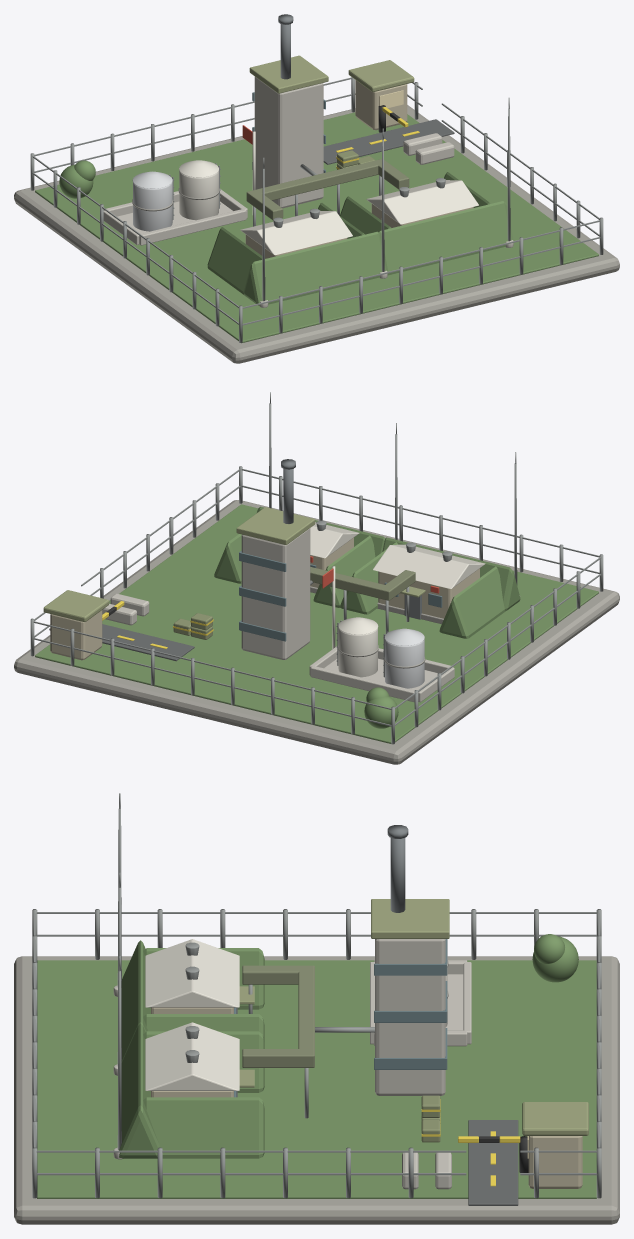
Rendered from tnt_5.glb.
The picture shows the model from 3 angles, top to bottom: view 1: azimuth 30°, elevation 25°; view 2: azimuth 150°, elevation 25°; view 3: azimuth 270°, elevation 25°; orthographic projection. The views are drawn at different scales.
Visible parts, largest first — view 1: Cube.001, Cube, Cube.052, prism, prism.004, prism.007, prism.003, Cube.002, prism.001, Cube.029, Cube.059, Cylinder.013 (+20 smaller); view 2: Cube.001, Cube, Cube.052, prism.001, prism.003, Cube.006, Cube.059, Cylinder.013, Cylinder.015, Cube.002, prism.005, Cube.014 (+19 smaller); view 3: Cube.001, Cube, Cube.052, prism.006, prism.003, prism.007, Cube.002, prism.004, Cube.059, Cube.006, Cube.007, prism (+20 smaller).
Boxes of the visible parts, x1,y1,x2,y2 form: Cube.001: [35, 112, 598, 343]; Cube: [14, 105, 619, 363]; Cube.052: [254, 76, 323, 208]; prism: [243, 231, 386, 305]; prism.004: [379, 201, 513, 275]; prism.007: [366, 180, 478, 224]; prism.003: [240, 210, 352, 255]; Cube.002: [323, 119, 454, 164]; prism.001: [207, 227, 265, 294]; Cube.029: [248, 159, 386, 200]; Cube.059: [249, 55, 328, 93]; Cylinder.013: [133, 182, 172, 231]; Cube.001: [35, 504, 598, 743]; Cube: [14, 500, 619, 764]; Cube.052: [241, 528, 310, 659]; prism.001: [439, 566, 505, 638]; prism.003: [373, 544, 485, 588]; Cube.006: [50, 610, 102, 660]; Cube.059: [236, 507, 315, 544]; Cylinder.013: [385, 639, 424, 688]; Cylinder.015: [338, 628, 377, 677]; Cube.002: [49, 624, 194, 661]; prism.005: [313, 535, 375, 607]; Cube.014: [378, 568, 479, 618]; Cube.001: [37, 960, 596, 1198]; Cube: [14, 956, 619, 1224]; Cube.052: [375, 939, 445, 1095]; prism.006: [143, 1097, 264, 1158]; prism.003: [145, 939, 239, 1007]; prism.007: [145, 1022, 239, 1090]; Cube.002: [468, 1120, 518, 1205]; prism.004: [119, 1023, 159, 1158]; Cube.059: [371, 899, 449, 938]; Cube.006: [528, 1136, 582, 1188]; Cube.007: [522, 1102, 588, 1135]; prism: [121, 940, 150, 1062].
Size of the model in its own units: 2.92 by 1.43 by 2.92.
